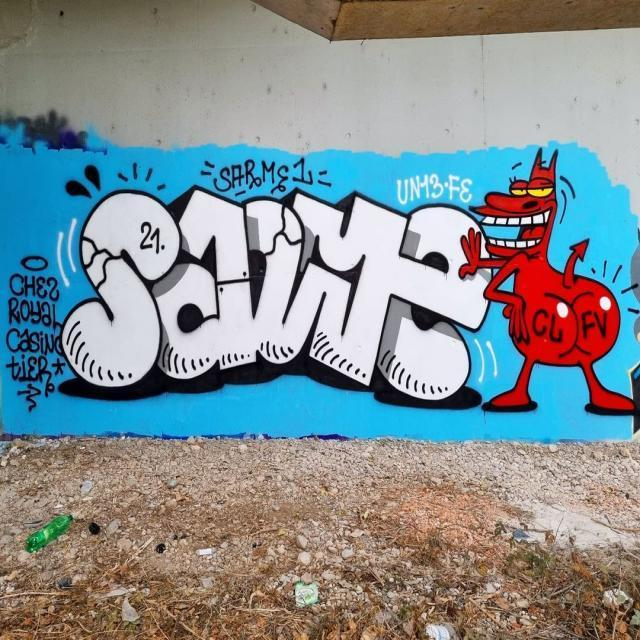-: (61, 192, 488, 406), (456, 149, 638, 428), (9, 244, 65, 411), (202, 153, 327, 193), (394, 164, 472, 208)
